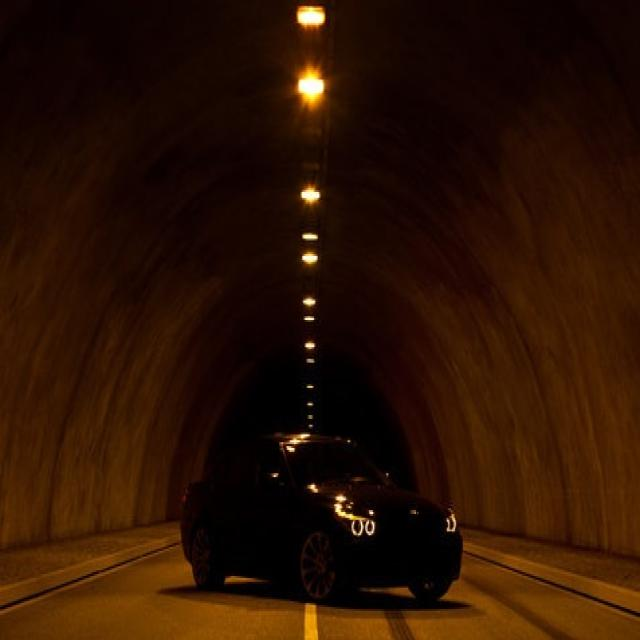car: (162, 408, 478, 632)
